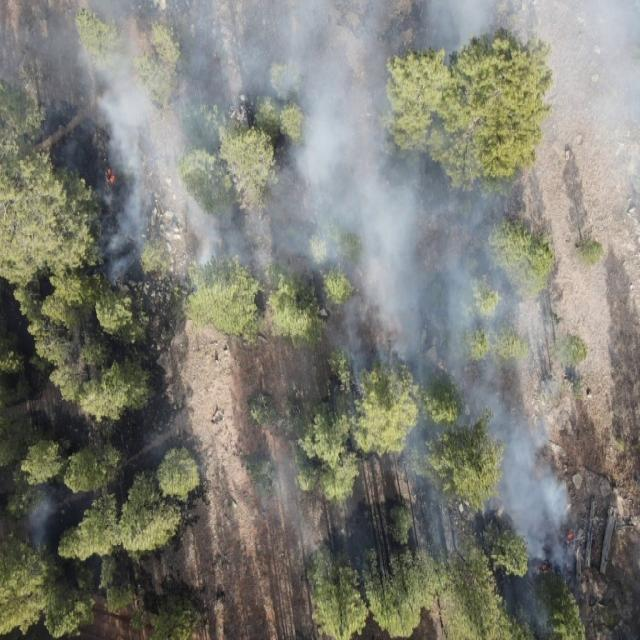fire: (529, 562, 552, 580), (562, 528, 578, 546), (104, 166, 118, 186)
smoke: (0, 0, 640, 292), (257, 293, 588, 582), (512, 582, 558, 638), (28, 488, 62, 558)
